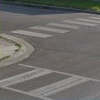crosswalk: (0, 67, 92, 97), (9, 16, 99, 37)
